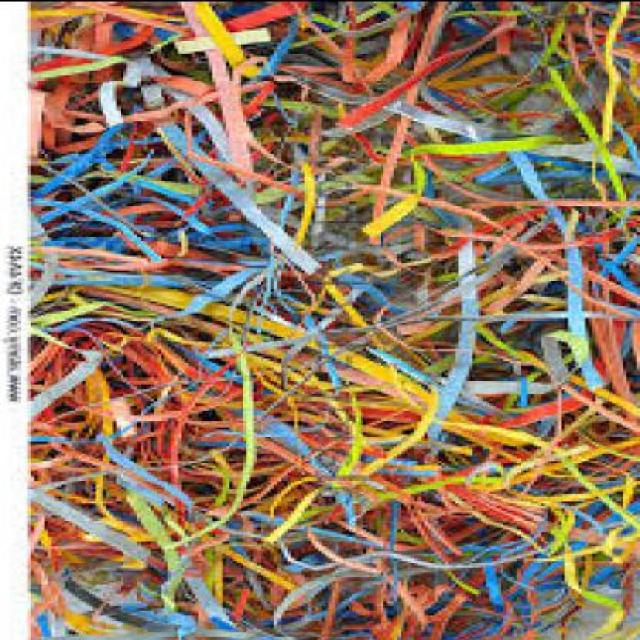PAPER: (32, 0, 639, 638)
